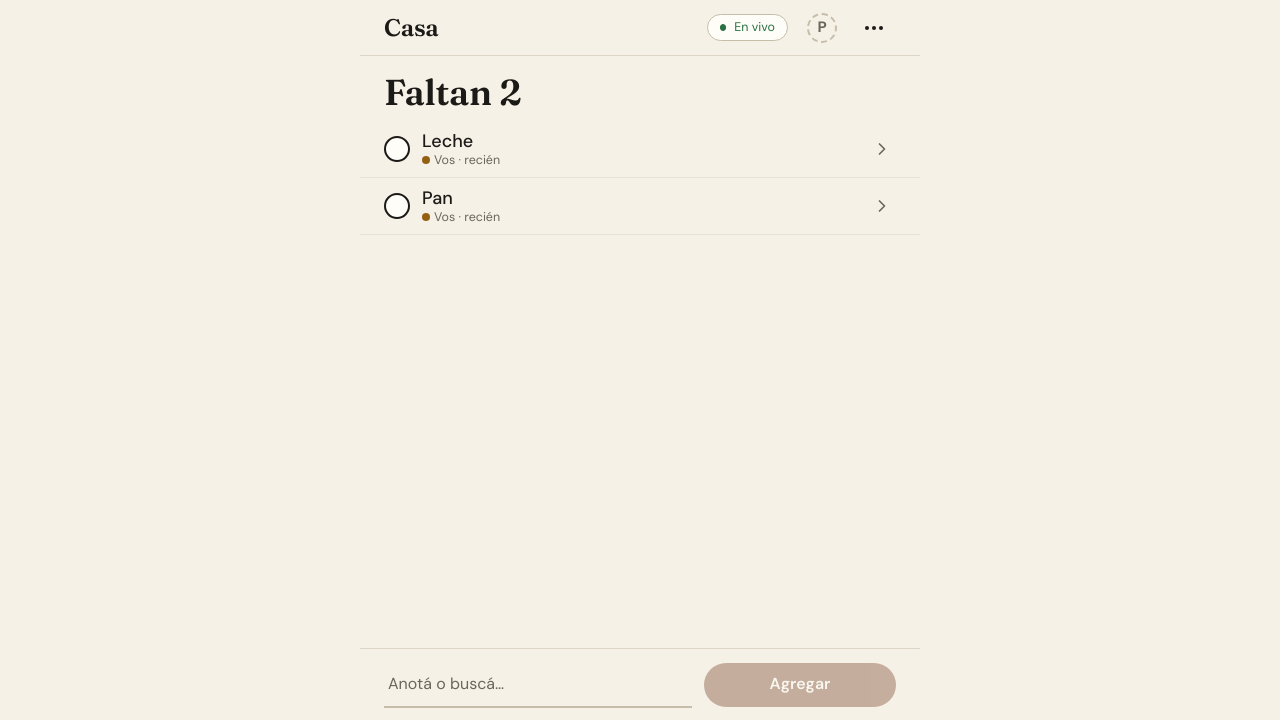
PantallaLista · las llaves y las invitaciones no comparten centinela › si falla leer las llaves, la hoja lo dice en vez de mostrarse vacía
Click the button named "Menú" at (874, 28), box [852,6,896,50]
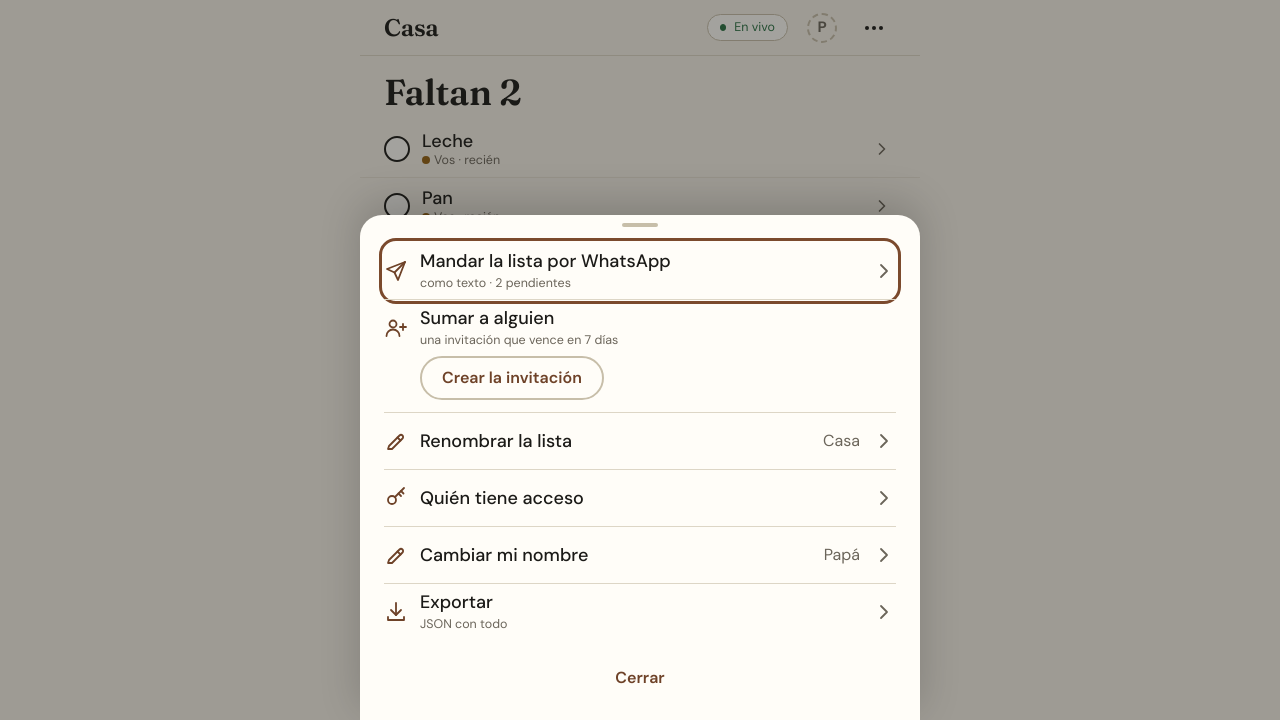
Click the button "Quién tiene acceso" at (502, 498), box [384,470,896,526]
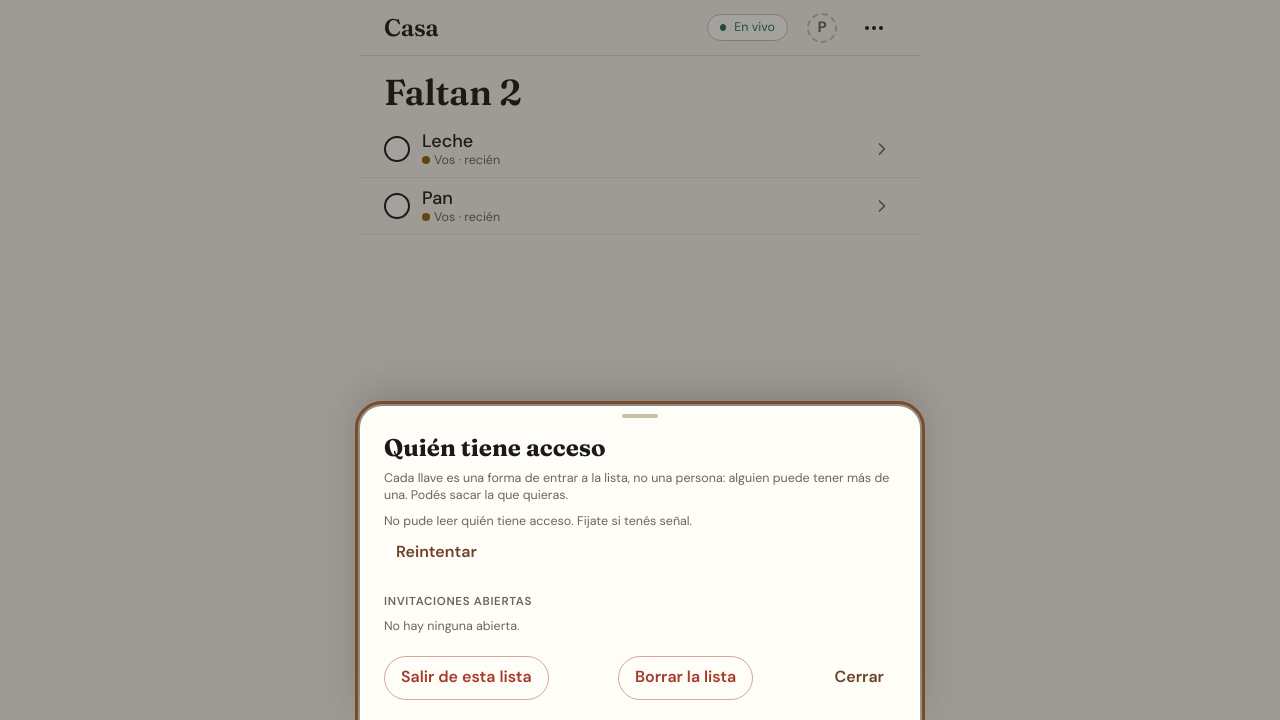
Now the button "Reintentar" is shown, box [384,530,489,574]
